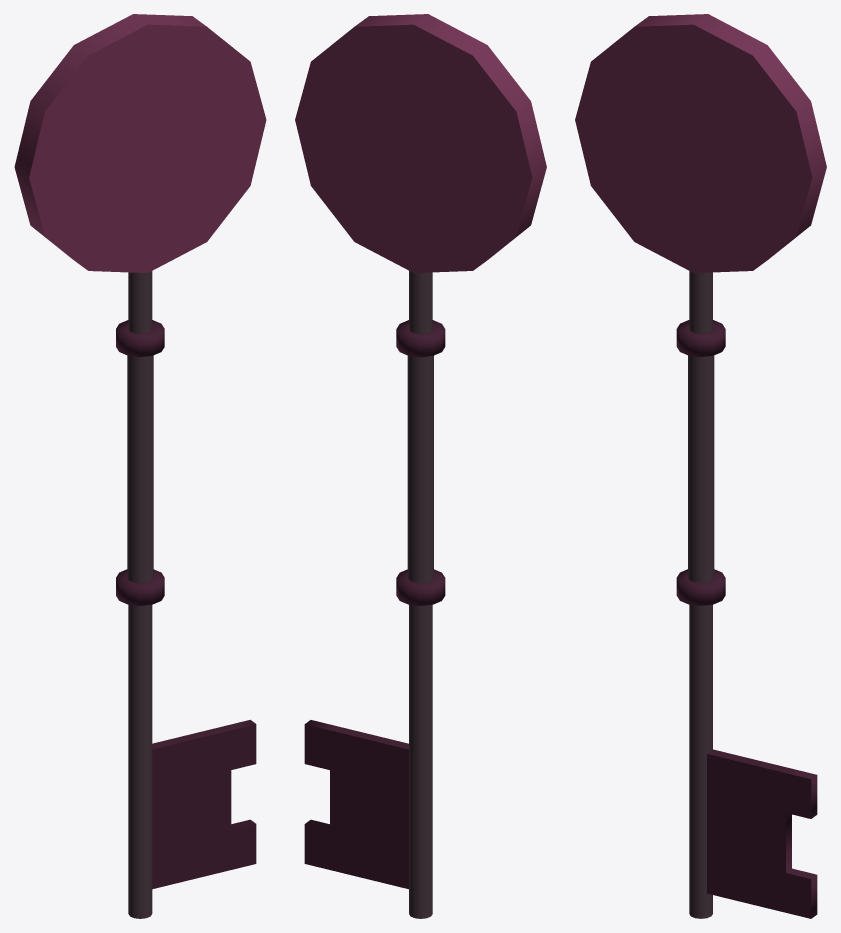
File: chave.fbx
3 renders of one model, left to right at view 1: azimuth 30°, elevation 25°; view 2: azimuth 150°, elevation 25°; view 3: azimuth 330°, elevation 25°, orthographic.
Visible parts, largest first — view 1: chave; view 2: chave; view 3: chave.
Part boxes in pixels (x1,y1,x2,y2): chave: [14, 14, 266, 918]; chave: [295, 14, 546, 918]; chave: [575, 14, 826, 918].
Size of the model in its own units: 2.96 by 10.67 by 0.5271.
